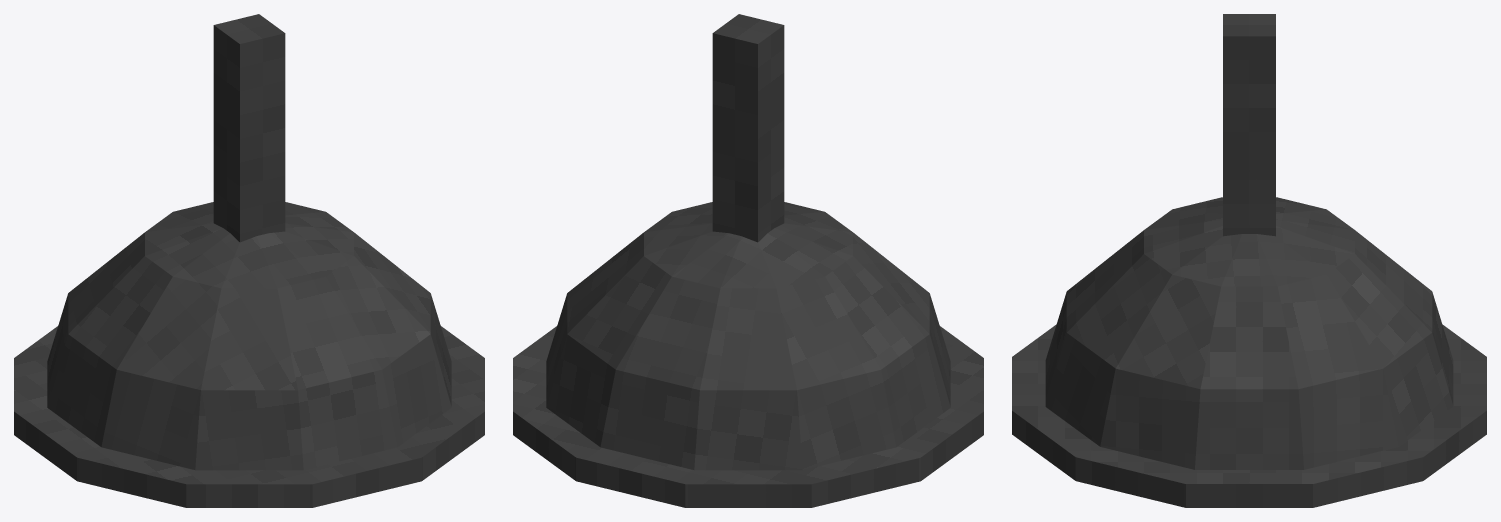
File: steam_cap.obj
3 views of the same model, side by side, from view 1: azimuth 30°, elevation 25°; view 2: azimuth 150°, elevation 25°; view 3: azimuth 270°, elevation 25° (orthographic).
Visible parts, largest first — view 1: sphere, cylinder, cube; view 2: sphere, cylinder, cube; view 3: sphere, cylinder, cube.
Boxes of the visible parts, bbox=[...] form: sphere: bbox=[47, 202, 451, 470]; cylinder: bbox=[14, 326, 484, 507]; cube: bbox=[213, 14, 285, 242]; sphere: bbox=[546, 202, 950, 470]; cylinder: bbox=[513, 326, 983, 507]; cube: bbox=[712, 14, 784, 242]; sphere: bbox=[1045, 197, 1453, 469]; cylinder: bbox=[1012, 324, 1486, 507]; cube: bbox=[1223, 14, 1275, 236].
Size of the model in its own units: 1.12 by 1 by 1.12.
